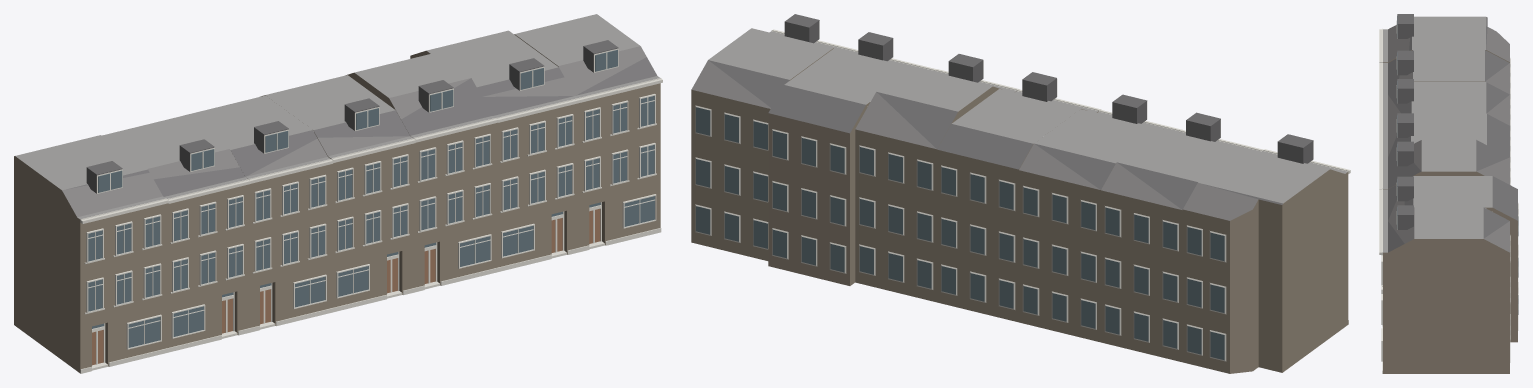
File: chunk-face-coppelstock-25-55-r1.glb
3 renders of one model, left to right at view 1: azimuth 30°, elevation 25°; view 2: azimuth 150°, elevation 25°; view 3: azimuth 270°, elevation 25°, orthographic. The views are drawn at different scales.
Visible parts, largest first — view 1: face-coppelstock-25-55-r1; view 2: face-coppelstock-25-55-r1; view 3: face-coppelstock-25-55-r1.
Part boxes in pixels (bbox=[...]): face-coppelstock-25-55-r1: bbox=[14, 14, 662, 373]; face-coppelstock-25-55-r1: bbox=[691, 14, 1350, 373]; face-coppelstock-25-55-r1: bbox=[1379, 14, 1518, 373].
Bounding box in the file's own units: 42.97 × 13.16 × 11.32.
